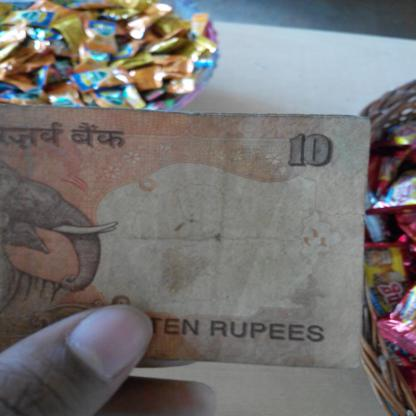Old10Back: (0, 103, 374, 372)
